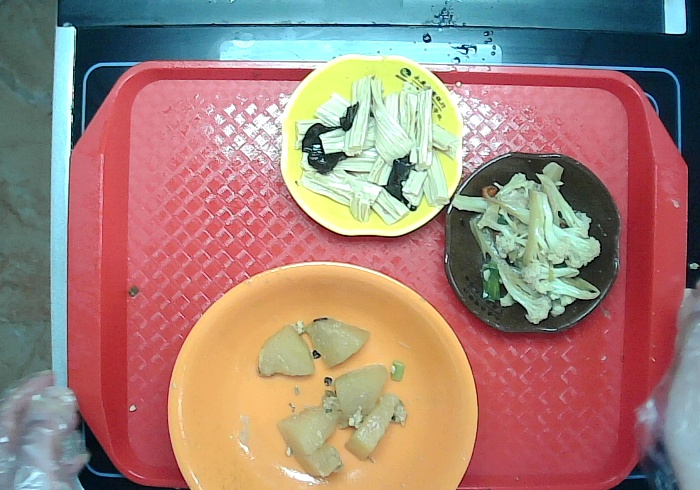YKMZ-Huang_Se_Ao_Bian_Wan: (278, 53, 462, 241)
YKMZ-Ju_Se_Tang_Wan: (167, 260, 480, 490)
YKMZ-Ka_Fei_Ao_Bian_Wan: (445, 148, 621, 335)
